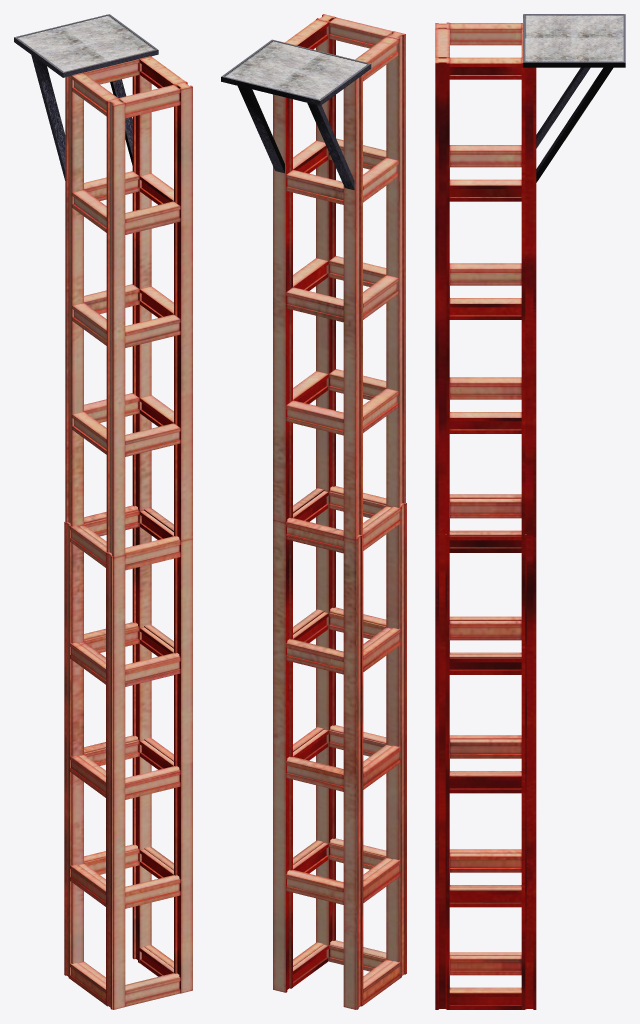
File: tower1-3.obj
3 renders of one model, left to right at view 1: azimuth 30°, elevation 25°; view 2: azimuth 150°, elevation 25°; view 3: azimuth 270°, elevation 25°, orthographic. The views are drawn at different scales.
Size of the model in its own units: 6.37 by 57.86 by 10.5.
1 material, 1 textured.
